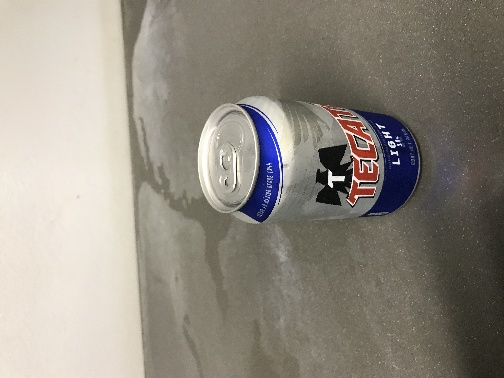TLL: (142, 69, 306, 162)
